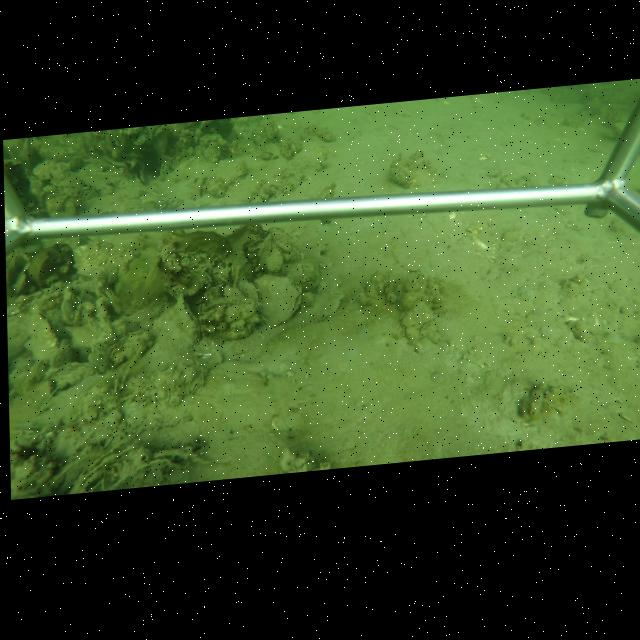Oyster-Closed: (258, 274, 303, 328), (167, 293, 202, 345), (107, 331, 152, 367), (30, 311, 59, 364), (268, 225, 294, 256), (238, 277, 263, 306)
